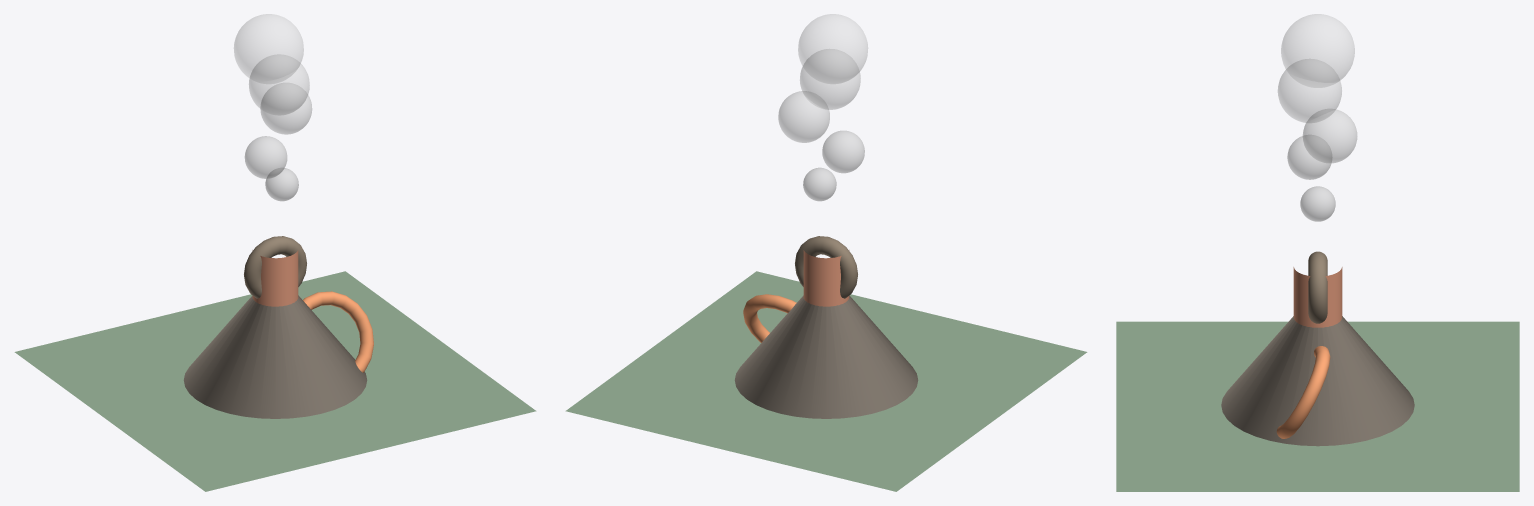
The model's file is volcano.glb.
3 views of the same model, side by side, from view 1: azimuth 30°, elevation 25°; view 2: azimuth 150°, elevation 25°; view 3: azimuth 270°, elevation 25° (orthographic). The views are drawn at different scales.
Visible parts, largest first — view 1: ground, volcano_cone, ash_plume_5, ash_plume_4, ash_plume_3, crater_throat, crater_rim, lava_flow, ash_plume_2, ash_plume_1; view 2: ground, volcano_cone, ash_plume_5, ash_plume_4, ash_plume_3, crater_throat, crater_rim, ash_plume_2, lava_flow, ash_plume_1; view 3: ground, volcano_cone, ash_plume_5, ash_plume_4, ash_plume_3, crater_throat, ash_plume_2, lava_flow, crater_rim, ash_plume_1.
Part boxes in pixels (x1=…): ground: x1=14, y1=271, x2=536, y2=491; volcano_cone: x1=183, y1=295, x2=367, y2=418; ash_plume_5: x1=234, y1=14, x2=303, y2=83; ash_plume_4: x1=249, y1=54, x2=309, y2=115; ash_plume_3: x1=260, y1=83, x2=311, y2=134; crater_throat: x1=252, y1=250, x2=298, y2=306; crater_rim: x1=244, y1=236, x2=306, y2=298; lava_flow: x1=303, y1=291, x2=373, y2=372; ash_plume_2: x1=244, y1=136, x2=287, y2=178; ash_plume_1: x1=265, y1=168, x2=298, y2=201; ground: x1=565, y1=271, x2=1087, y2=491; volcano_cone: x1=734, y1=295, x2=918, y2=418; ash_plume_5: x1=798, y1=14, x2=867, y2=83; ash_plume_4: x1=800, y1=49, x2=860, y2=109; ash_plume_3: x1=778, y1=91, x2=829, y2=142; crater_throat: x1=803, y1=250, x2=849, y2=306; crater_rim: x1=795, y1=236, x2=857, y2=298; ash_plume_2: x1=822, y1=130, x2=864, y2=173; lava_flow: x1=743, y1=294, x2=796, y2=342; ash_plume_1: x1=803, y1=167, x2=836, y2=201; ground: x1=1116, y1=321, x2=1519, y2=491; volcano_cone: x1=1221, y1=316, x2=1414, y2=446; ash_plume_5: x1=1281, y1=14, x2=1354, y2=87; ash_plume_4: x1=1278, y1=59, x2=1341, y2=122; ash_plume_3: x1=1303, y1=109, x2=1357, y2=162; crater_throat: x1=1293, y1=267, x2=1342, y2=327; ash_plume_2: x1=1287, y1=135, x2=1332, y2=179; lava_flow: x1=1276, y1=346, x2=1330, y2=438; crater_rim: x1=1308, y1=251, x2=1327, y2=323; ash_plume_1: x1=1300, y1=186, x2=1335, y2=221.
Bounding box in the file's own units: 1.12 × 1.23 × 1.12.
